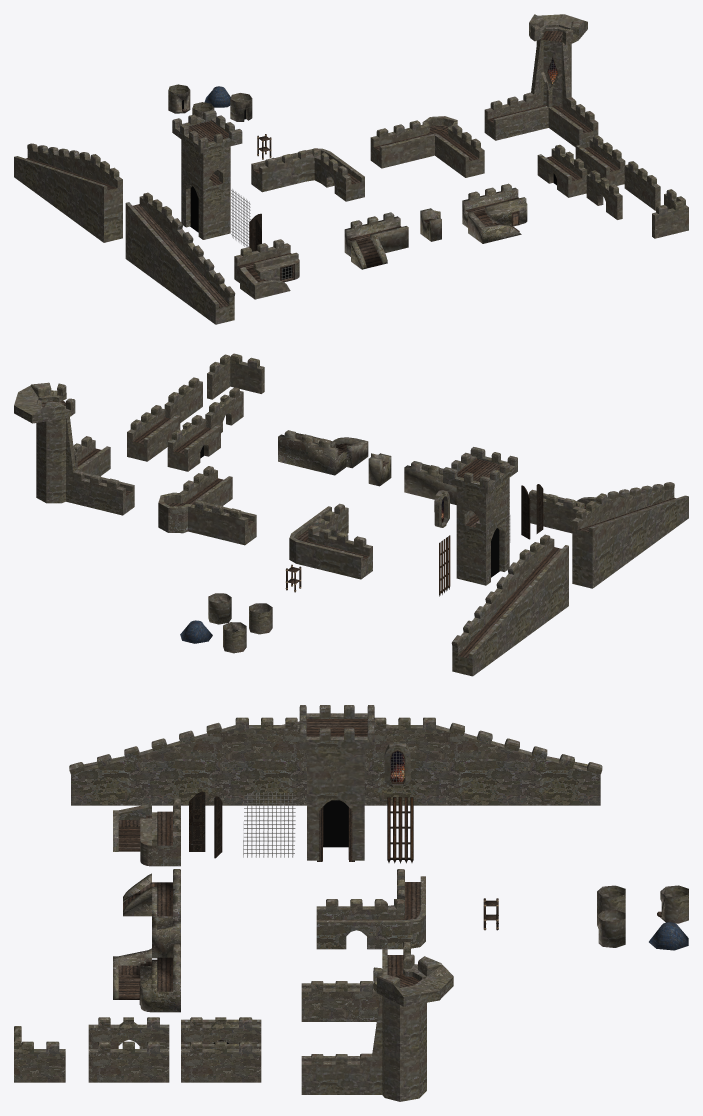
Rendered from TowerPackDemo.glb.
The picture shows the model from 3 angles, top to bottom: view 1: azimuth 30°, elevation 25°; view 2: azimuth 150°, elevation 25°; view 3: azimuth 270°, elevation 25°; orthographic projection. The views are drawn at different scales.
Visible parts, largest first — view 1: WallCornerTower, WallEntranceRampRight, WallEntranceRampLeft, TowerGateTunnel, WallCornerBalcony, WallCornerInnerGate, WallStairsDoor, WallStairsWindow, WallRamp, WallPath1Gate, WallPath1, WallCorner (+6 smaller); view 2: WallEntranceRampLeft, WallCornerTower, WallEntranceRampRight, TowerGateTunnel, WallCornerBalcony, WallCornerInnerGate, WallStairsDoor, WallPath1Gate, WallPath1, WallCorner, WallStairsWindow, WallRamp (+9 smaller); view 3: WallEntranceRampRight, WallEntranceRampLeft, WallCornerTower, TowerGateTunnel, WallCornerInnerGate, WallStairsDoor, WallCornerBalcony, WallStairsWindow, WallPath1, Wall, WallRamp, WallCorner (+12 smaller).
Boxes of the visible parts, x1,y1,x2,y2 form: WallCornerTower: [484, 14, 598, 148]; WallEntranceRampRight: [125, 192, 235, 324]; WallEntranceRampLeft: [14, 143, 122, 242]; TowerGateTunnel: [172, 110, 242, 239]; WallCornerBalcony: [370, 116, 484, 177]; WallCornerInnerGate: [251, 148, 364, 201]; WallStairsDoor: [462, 183, 527, 243]; WallStairsWindow: [234, 239, 299, 299]; WallRamp: [344, 212, 408, 269]; WallPath1Gate: [537, 144, 587, 197]; WallPath1: [575, 135, 625, 185]; WallCorner: [652, 189, 688, 238]; WallEntranceRampLeft: [451, 534, 568, 676]; WallCornerTower: [14, 382, 134, 515]; WallEntranceRampRight: [572, 482, 688, 588]; TowerGateTunnel: [443, 447, 517, 585]; WallCornerBalcony: [158, 466, 256, 545]; WallCornerInnerGate: [289, 503, 372, 579]; WallStairsDoor: [278, 430, 368, 475]; WallPath1Gate: [167, 415, 220, 471]; WallPath1: [127, 405, 180, 461]; WallCorner: [207, 353, 264, 399]; WallStairsWindow: [529, 489, 596, 533]; WallRamp: [404, 461, 456, 504]; WallEntranceRampRight: [69, 717, 306, 805]; WallEntranceRampLeft: [364, 717, 602, 805]; WallCornerTower: [301, 954, 453, 1101]; TowerGateTunnel: [299, 705, 374, 860]; WallCornerInnerGate: [316, 869, 425, 949]; WallStairsDoor: [113, 944, 180, 1012]; WallCornerBalcony: [301, 942, 410, 1021]; WallStairsWindow: [113, 798, 180, 866]; WallPath1: [181, 1041, 261, 1082]; Wall: [88, 1041, 169, 1082]; WallRamp: [123, 869, 180, 929]; WallCorner: [14, 1026, 65, 1082].
Size of what is drawn, in the model's own units: 131 by 26.89 by 117.
10 materials, 9 textured.
